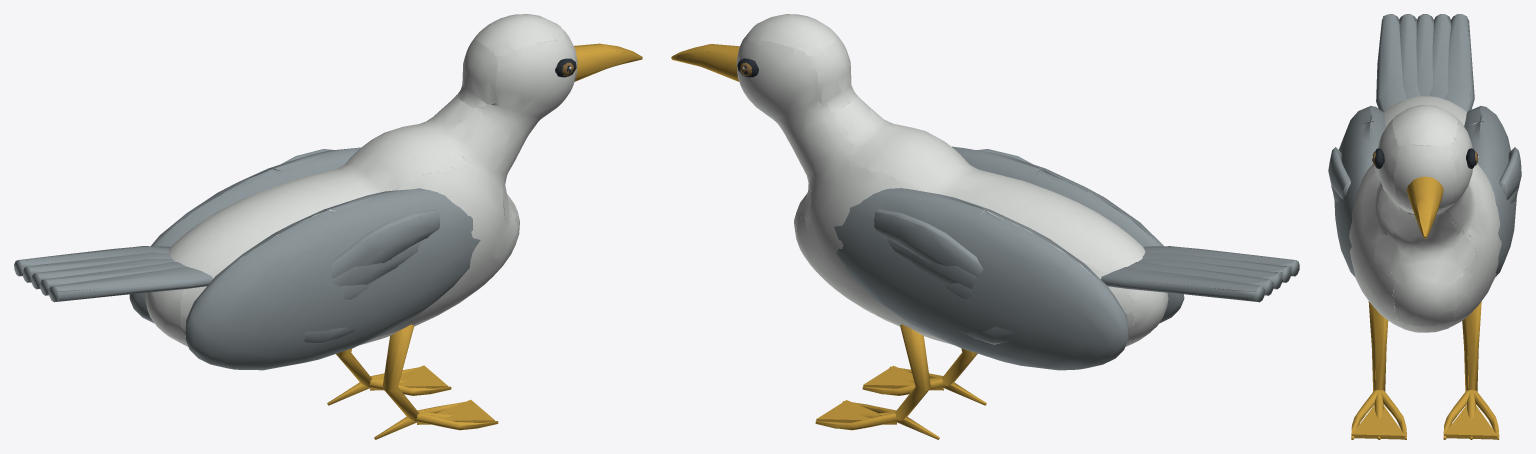
File: gull-perch.glb
3 views of the same model, side by side, from view 1: azimuth 30°, elevation 25°; view 2: azimuth 150°, elevation 25°; view 3: azimuth 270°, elevation 25° (orthographic).
Visible parts, largest first — view 1: gull; view 2: gull; view 3: gull.
Boxes of the visible parts, left/top/right/bottom form: gull: left=14, top=14, right=642, bottom=439; gull: left=671, top=14, right=1299, bottom=439; gull: left=1328, top=14, right=1521, bottom=439.
Size of the model in its own units: 0.62 by 0.3549 by 0.1739.
6 materials, 6 textured.
